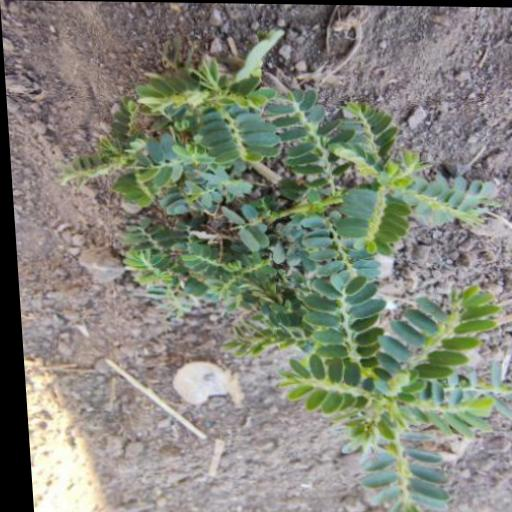weed: (82, 45, 499, 506)
